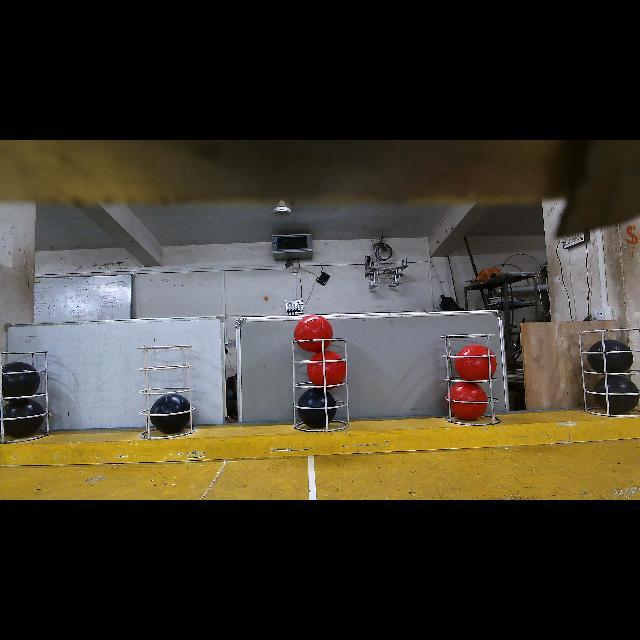P: (3, 398, 45, 438), (594, 375, 639, 412), (151, 394, 190, 434), (298, 388, 336, 428), (588, 340, 634, 372), (2, 362, 40, 397)
R: (449, 383, 487, 421), (456, 345, 497, 380), (294, 316, 333, 352), (307, 351, 346, 385)
S: (292, 336, 352, 434), (440, 332, 502, 426), (576, 328, 640, 418), (137, 344, 196, 440), (0, 350, 48, 444)
